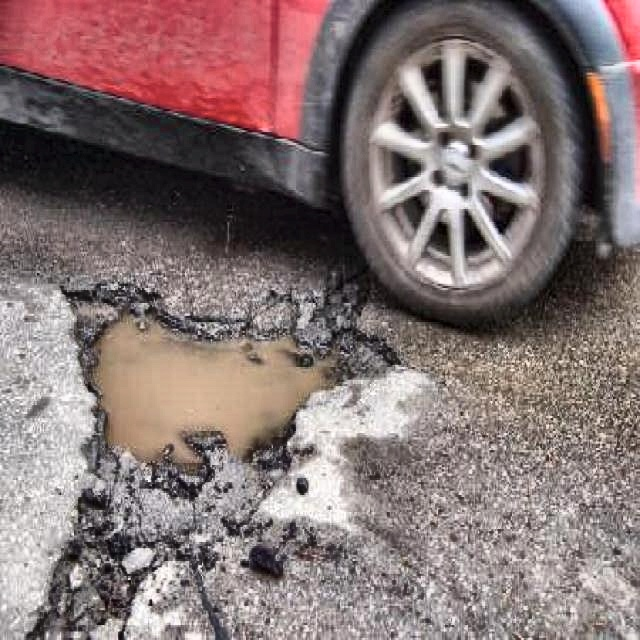Pothole: (57, 276, 401, 476)
